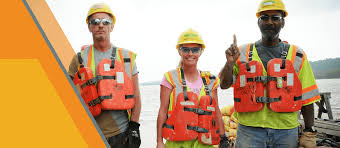hard hat: (86, 2, 116, 24), (175, 29, 205, 49), (255, 1, 288, 18)
high-vis: (235, 39, 318, 127), (78, 46, 137, 94), (166, 68, 219, 118)
